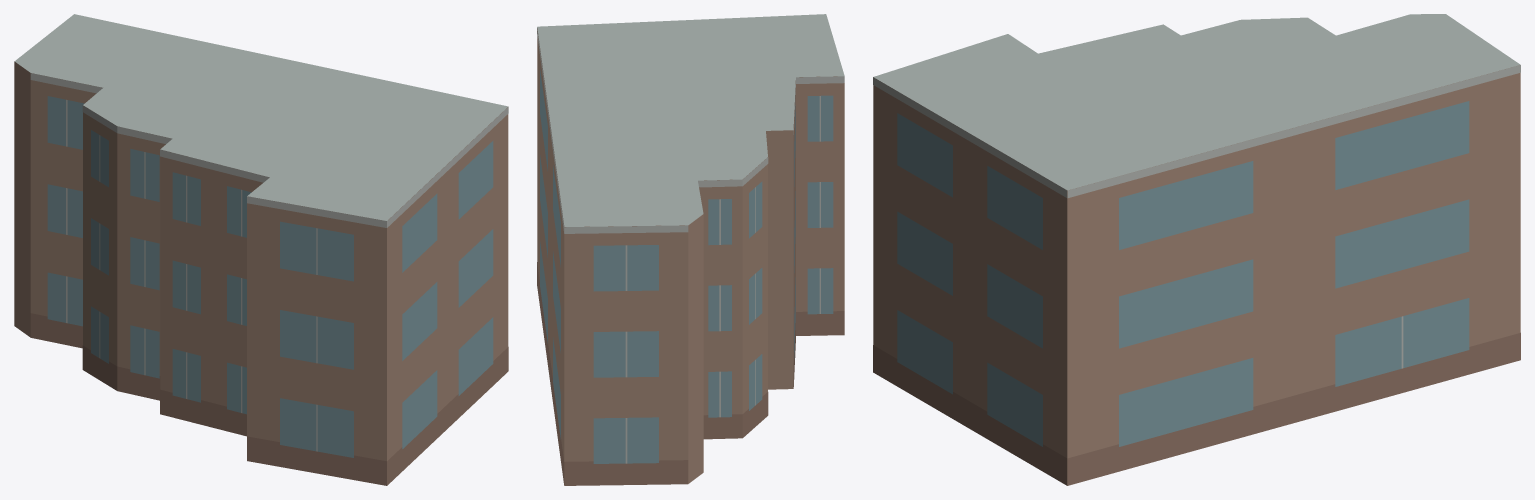
The model's file is survey-upis-32952214.glb.
The picture shows the model from 3 angles, left to right: view 1: azimuth 30°, elevation 25°; view 2: azimuth 150°, elevation 25°; view 3: azimuth 270°, elevation 25°; orthographic projection. The views are drawn at different scales.
Parts seen in each view (by area): view 1: survey-upis-32952214.tmp; view 2: survey-upis-32952214.tmp; view 3: survey-upis-32952214.tmp.
Boxes of the visible parts, bbox=[...] form: survey-upis-32952214.tmp: bbox=[14, 14, 508, 485]; survey-upis-32952214.tmp: bbox=[537, 14, 844, 485]; survey-upis-32952214.tmp: bbox=[873, 14, 1520, 485].
Size of the model in its own units: 11.74 by 9.15 by 18.19.
